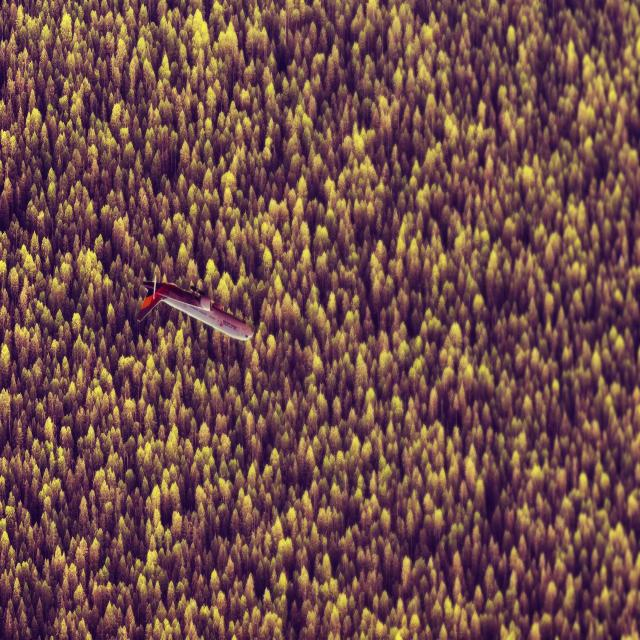airplane: (136, 276, 254, 342)
